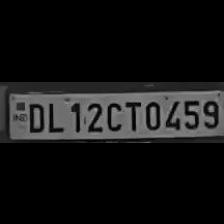0: (140, 97, 162, 129)
1: (65, 98, 83, 132)
2: (83, 98, 103, 132)
4: (162, 96, 180, 130)
5: (180, 95, 198, 129)
9: (199, 96, 219, 128)
C: (104, 97, 122, 130)
D: (24, 98, 44, 132)
L: (44, 98, 64, 132)
T: (123, 98, 141, 130)
